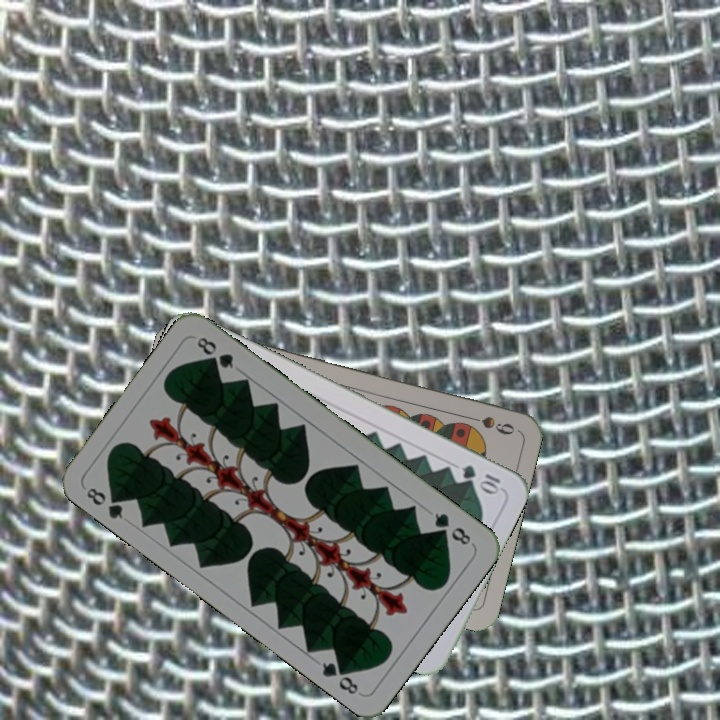G10: (457, 460, 503, 496)
G8: (430, 508, 475, 548), (82, 483, 127, 522)
S9: (460, 411, 517, 438)
